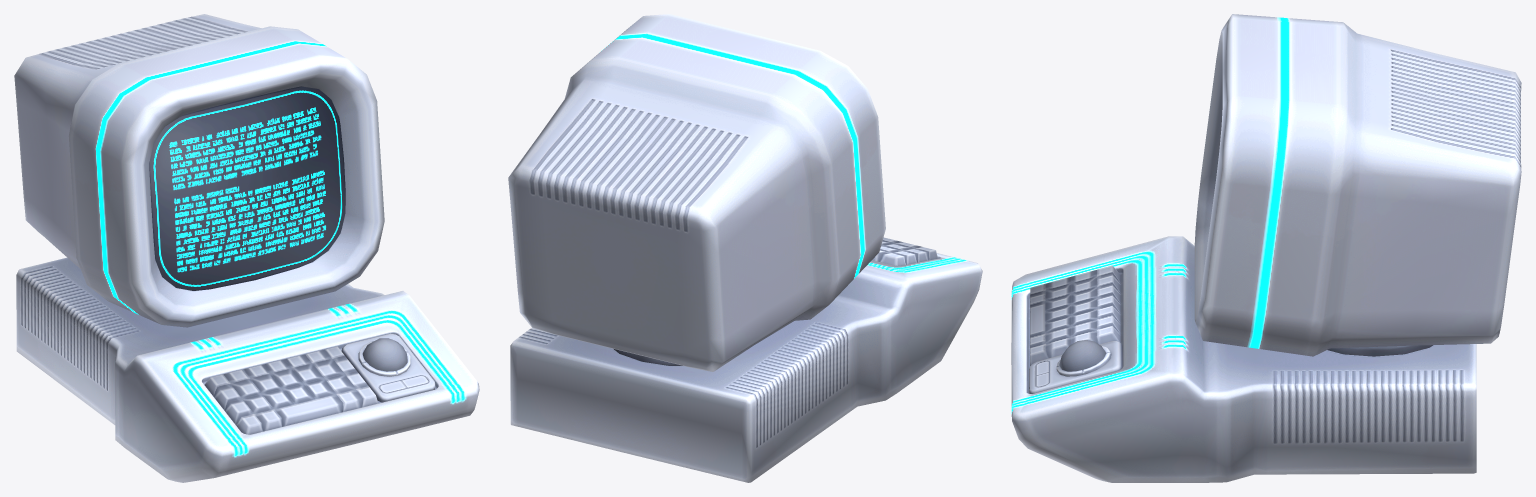
The picture shows the model from 3 angles, left to right: view 1: azimuth 30°, elevation 25°; view 2: azimuth 150°, elevation 25°; view 3: azimuth 270°, elevation 25°; orthographic projection. The views are drawn at different scales.
Parts seen in each view (by area): view 1: obj_pc; view 2: obj_pc; view 3: obj_pc.
Part boxes in pixels (<box>): obj_pc: <box>14,14,479,482</box>; obj_pc: <box>508,14,982,482</box>; obj_pc: <box>1011,14,1521,482</box>.
Size of what is drawn, in the model's own units: 0.7734 by 0.8956 by 1.17.
Materials: 1 (1 with a texture image).
